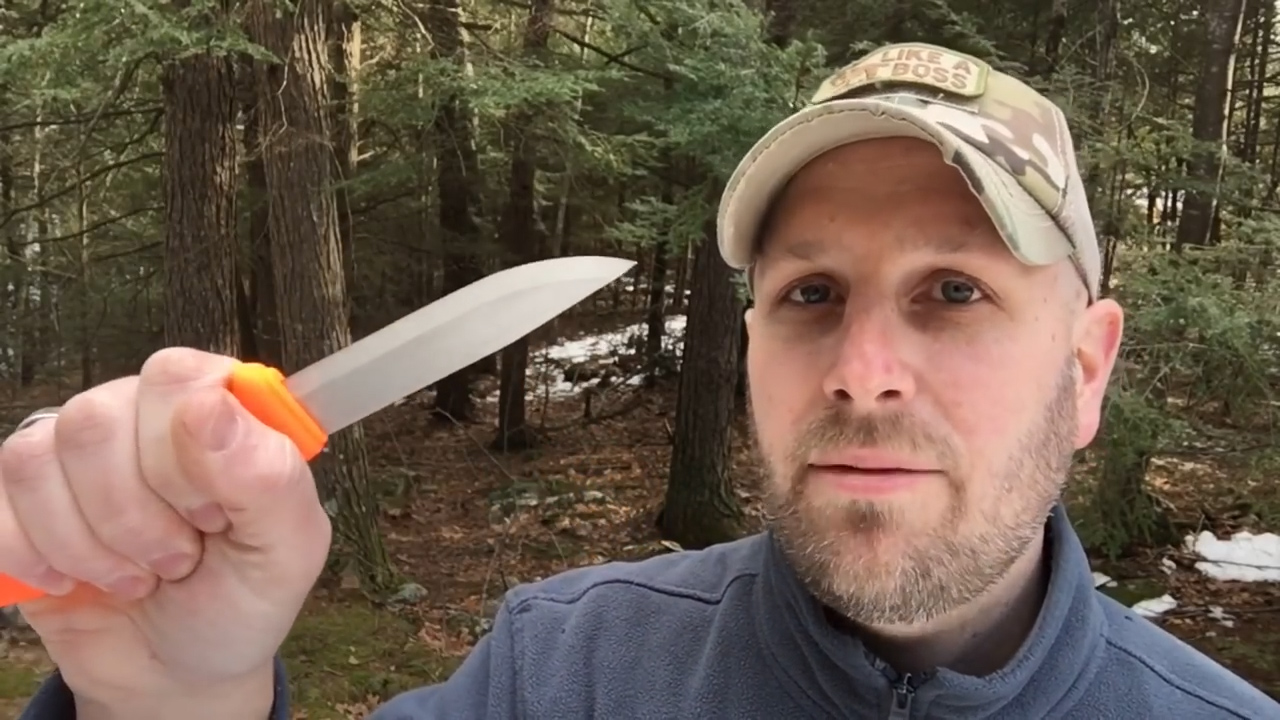knife: (73, 242, 654, 590)
